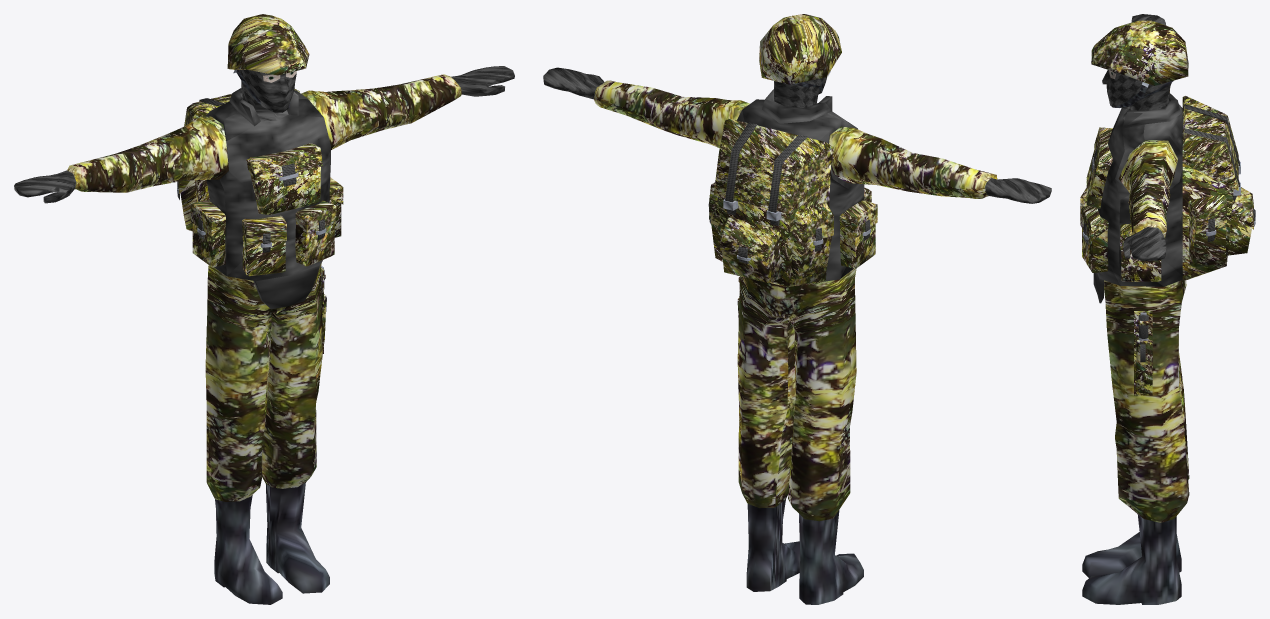
File: elite.obj
The picture shows the model from 3 angles, left to right: view 1: azimuth 30°, elevation 25°; view 2: azimuth 150°, elevation 25°; view 3: azimuth 270°, elevation 25°; orthographic projection.
Parts seen in each view (by area): view 1: legs.001, arms.001, vest.001, boots.001, bags.001, baglids.001, hat.001, hands.001, head.001, ribbon.001; view 2: legs.001, arms.001, baglids.001, boots.001, bags.001, vest.001, hat.001, hands.001, ribbon.001, head.001; view 3: legs.001, vest.001, baglids.001, bags.001, boots.001, hat.001, arms.001, head.001, hands.001, bladecover.001, ribbon.001, strap.001.
Boxes of the visible parts, x1,y1,x2,y2 form: legs.001: (205,263,322,501); arms.001: (67,74,461,192); vest.001: (206,88,330,309); boots.001: (214,482,329,604); bags.001: (180,167,341,276); baglids.001: (178,89,343,244); hat.001: (227,14,309,75); hands.001: (14,66,514,203); head.001: (238,70,296,121); ribbon.001: (177,98,324,252); legs.001: (737,268,856,521); arms.001: (594,80,997,198); baglids.001: (709,118,877,261); boots.001: (746,499,863,604); bags.001: (710,164,875,286); vest.001: (737,89,864,281); hat.001: (759,14,841,84); hands.001: (543,67,1051,203); ribbon.001: (708,122,869,263); head.001: (774,76,827,108); legs.001: (1104,280,1189,522); vest.001: (1093,93,1183,303); baglids.001: (1080,96,1253,249); bags.001: (1082,150,1251,281); boots.001: (1082,514,1181,604); hat.001: (1091,20,1188,85); arms.001: (1118,87,1177,238); head.001: (1102,70,1171,120); hands.001: (1123,14,1166,260); bladecover.001: (1134,311,1152,395); ribbon.001: (1083,104,1255,244); strap.001: (1113,80,1173,107).
Bounding box in the file's own units: 1.68 × 1.81 × 0.5139.
Materials: 7 (7 with a texture image).
